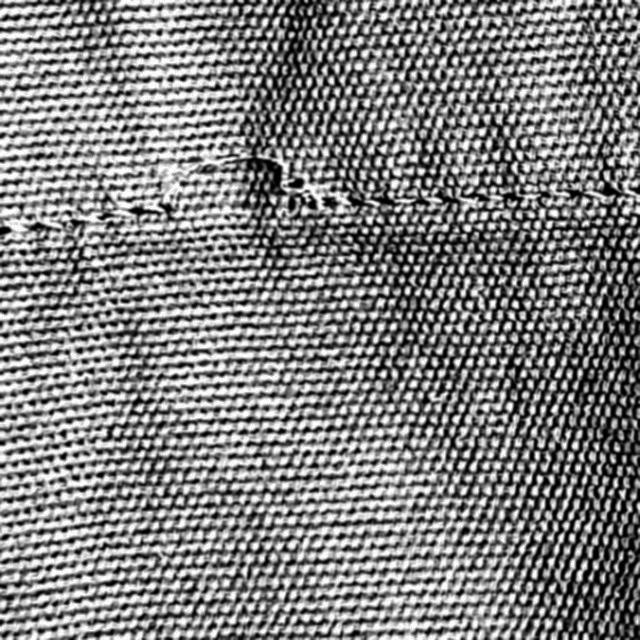Sewing_error: (129, 119, 326, 238)
